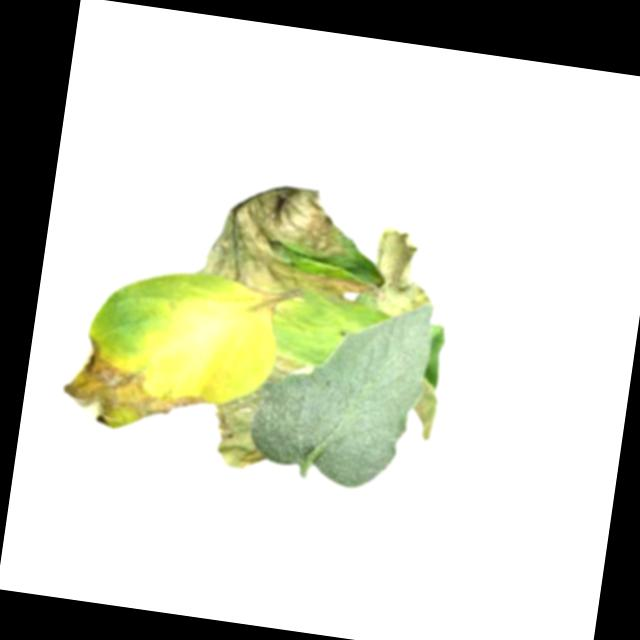Late_blight: (192, 172, 396, 312), (58, 331, 215, 440), (368, 219, 442, 321), (208, 399, 273, 473), (235, 346, 305, 410), (412, 375, 443, 441)
